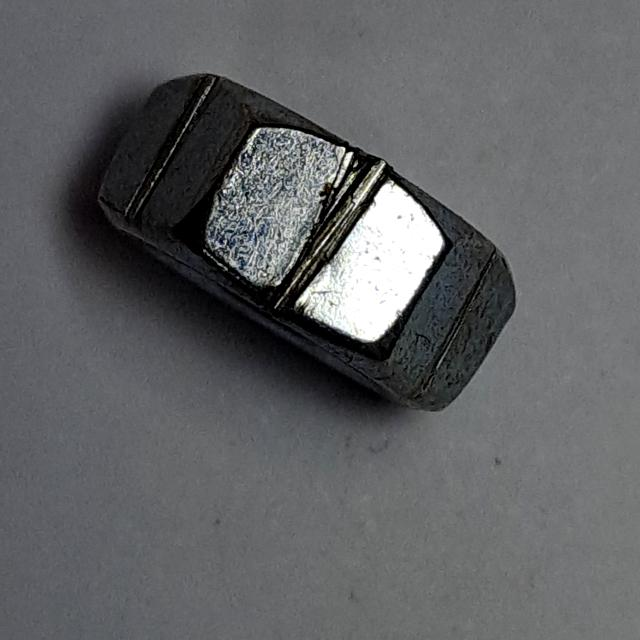Side_Scratches: (83, 51, 534, 432)
